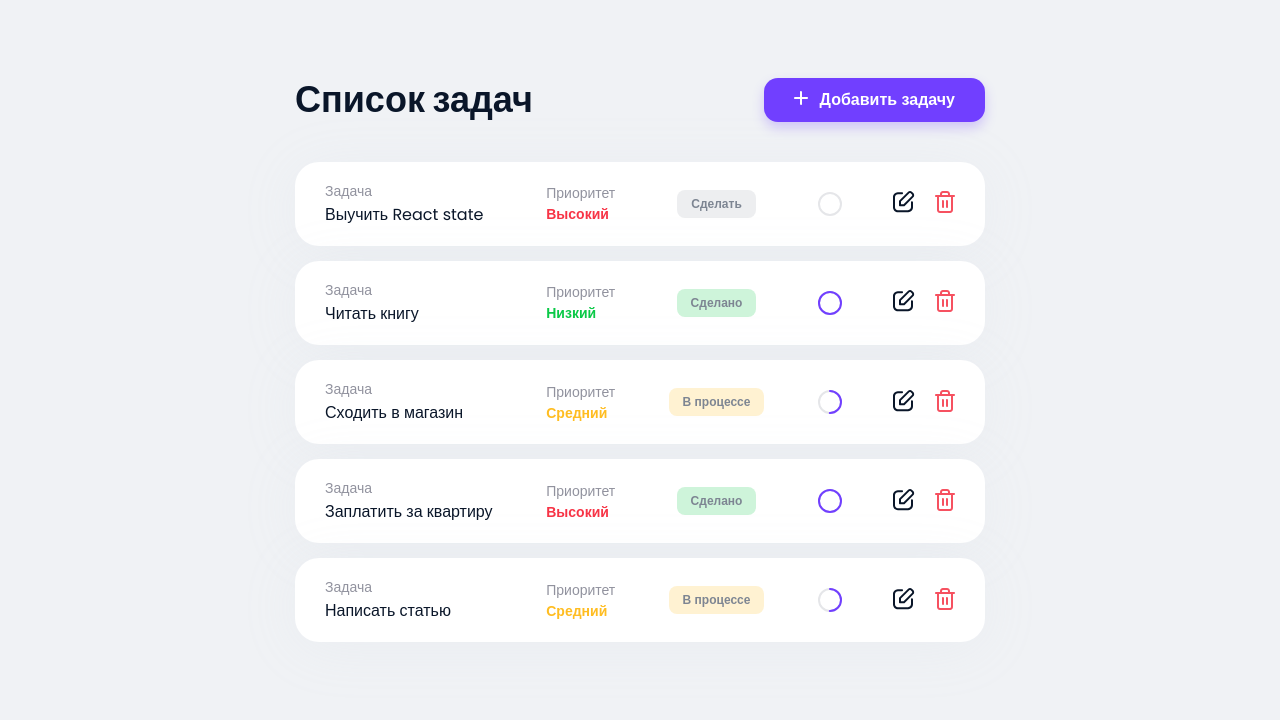
Test case: Тесты для модалки добавления задачи › Клик по кнопке 'Добавить задачу' должен открывать модальное окно
Click the button "Добавить задачу".
click(874, 100)  # box [764,78,985,122]
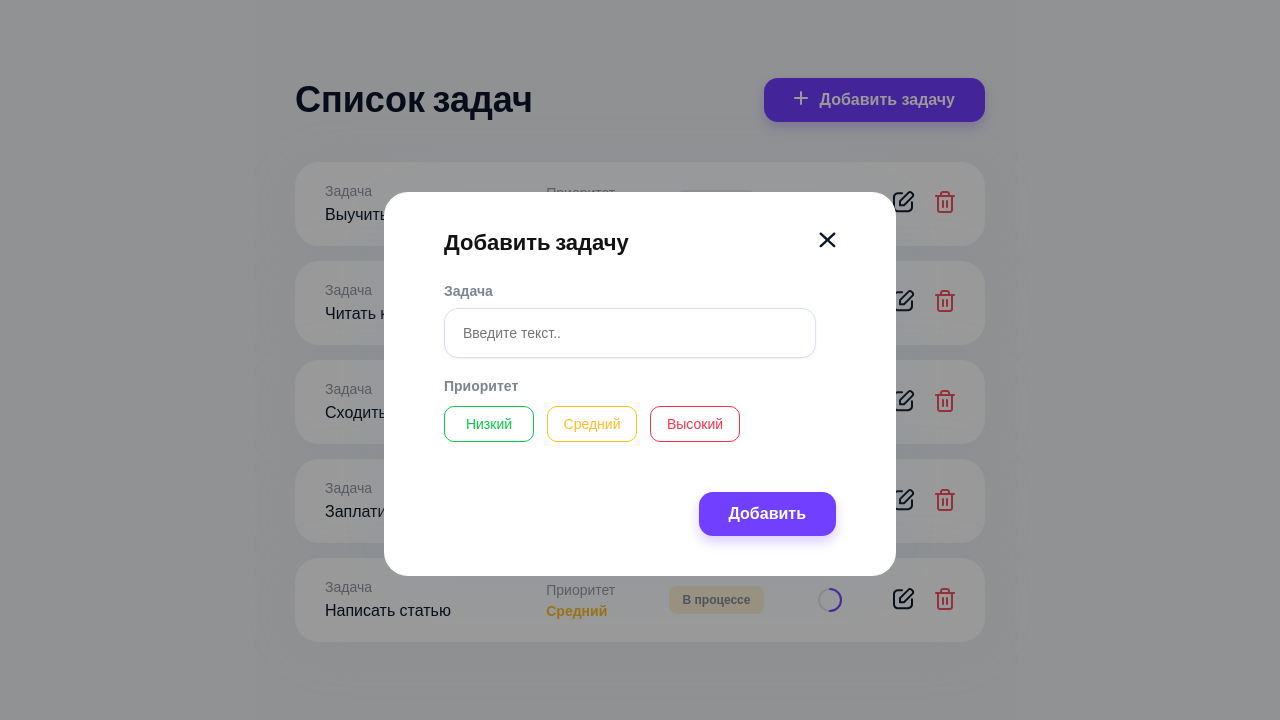
Expected: the element with test id "add-edit-task-modal" is shown, [444,232,836,536]
